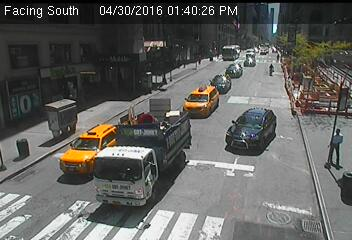neg: (68, 120, 93, 154), (185, 182, 210, 216), (46, 97, 68, 127), (193, 46, 215, 76), (234, 146, 256, 176), (11, 95, 33, 124), (126, 73, 147, 101), (130, 117, 151, 145), (116, 159, 137, 187), (286, 86, 307, 114), (231, 94, 252, 121), (40, 49, 61, 76), (263, 168, 283, 195), (224, 47, 242, 72), (77, 188, 95, 212), (200, 91, 218, 115), (125, 212, 141, 234), (160, 66, 176, 87), (99, 69, 113, 89), (15, 139, 29, 158), (170, 129, 184, 148), (154, 173, 167, 190)
pos: (314, 124, 347, 168), (267, 61, 279, 76), (276, 50, 284, 61)
